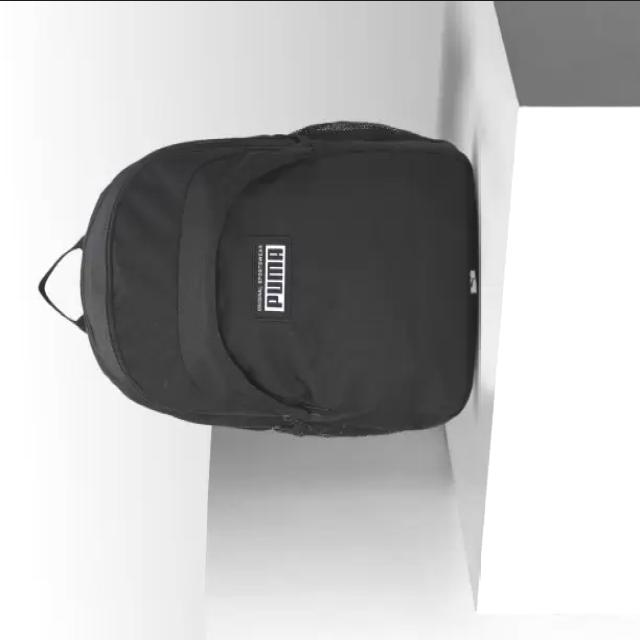backpack: (39, 121, 479, 439)
